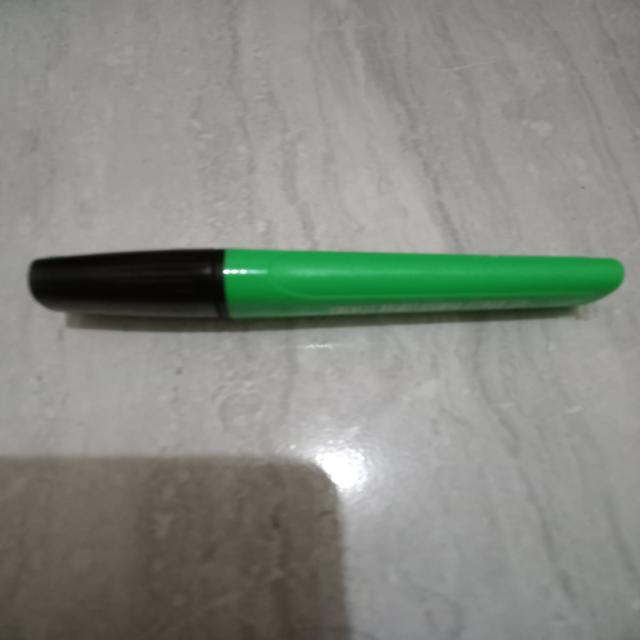highlighter: (18, 214, 640, 370)
